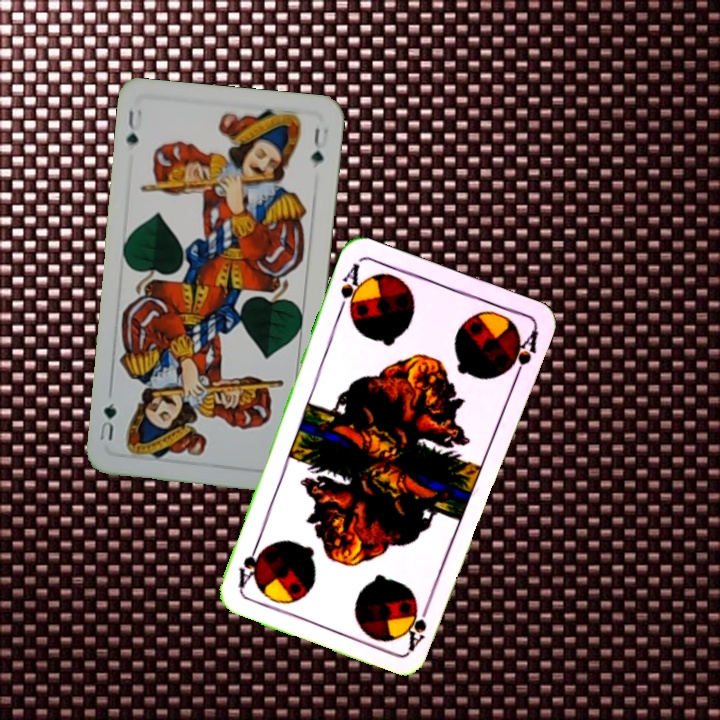GU: (122, 103, 145, 148)
SA: (334, 259, 367, 320), (404, 596, 434, 653)
